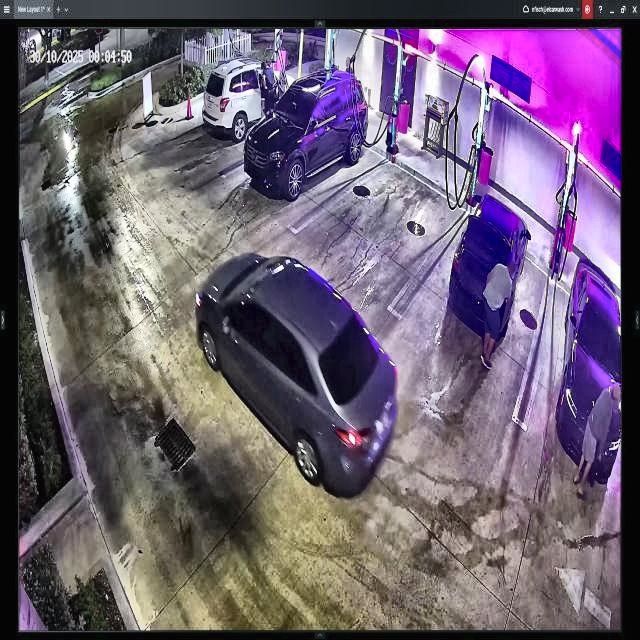Car: (195, 244, 397, 493), (243, 72, 369, 198), (450, 186, 528, 344)
